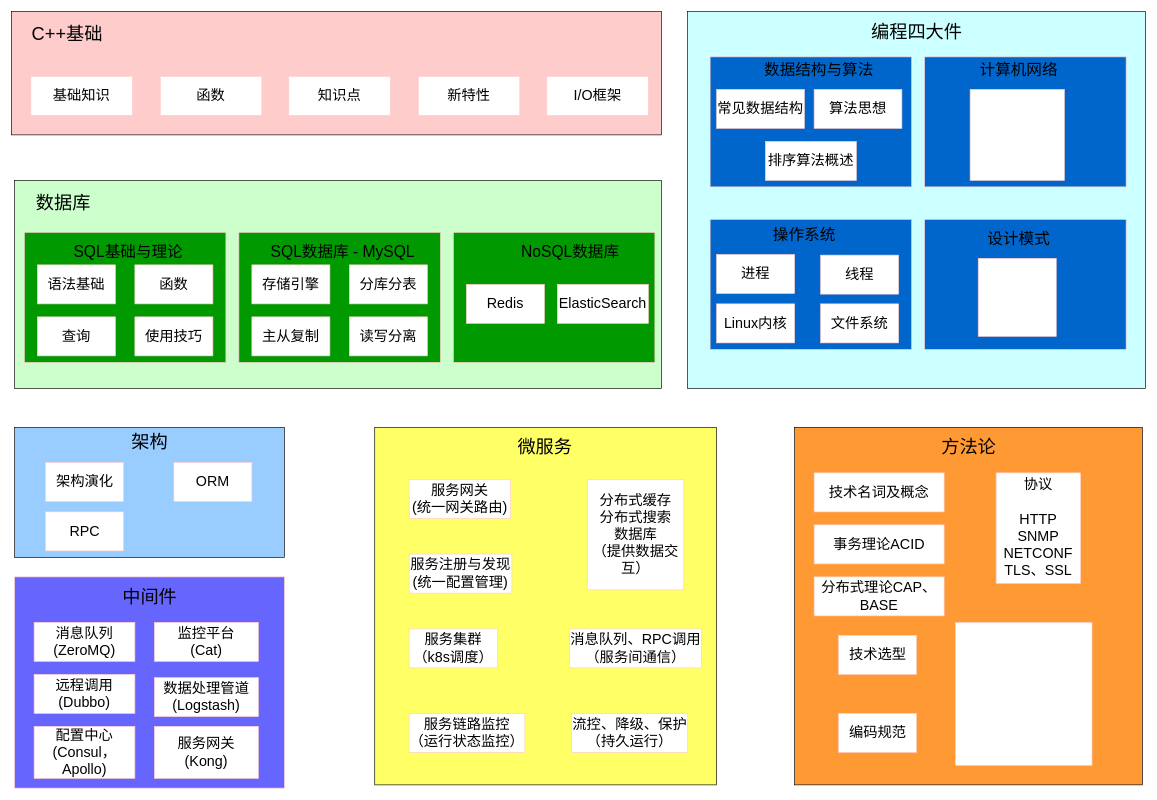
Image size: 1157x800. Some labels were removed from this diagram. The box of each missing label's shape, as (x1, y1, x2, y2) in pixels:
创建型 结构型 行为型: (978, 258, 1056, 336)
应用层 运输层 网络层 数据链路层 物理层: (969, 89, 1064, 180)
架构设计 合适、简单、演化 高内聚、低耦合 正交四原则 SOLID理论 整洁框架 DDD领域驱动设计: (955, 622, 1092, 765)
